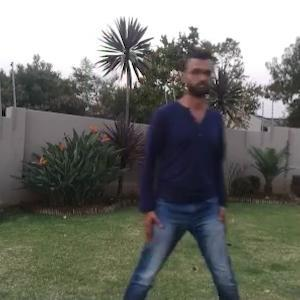follow: (140, 42, 233, 299)
